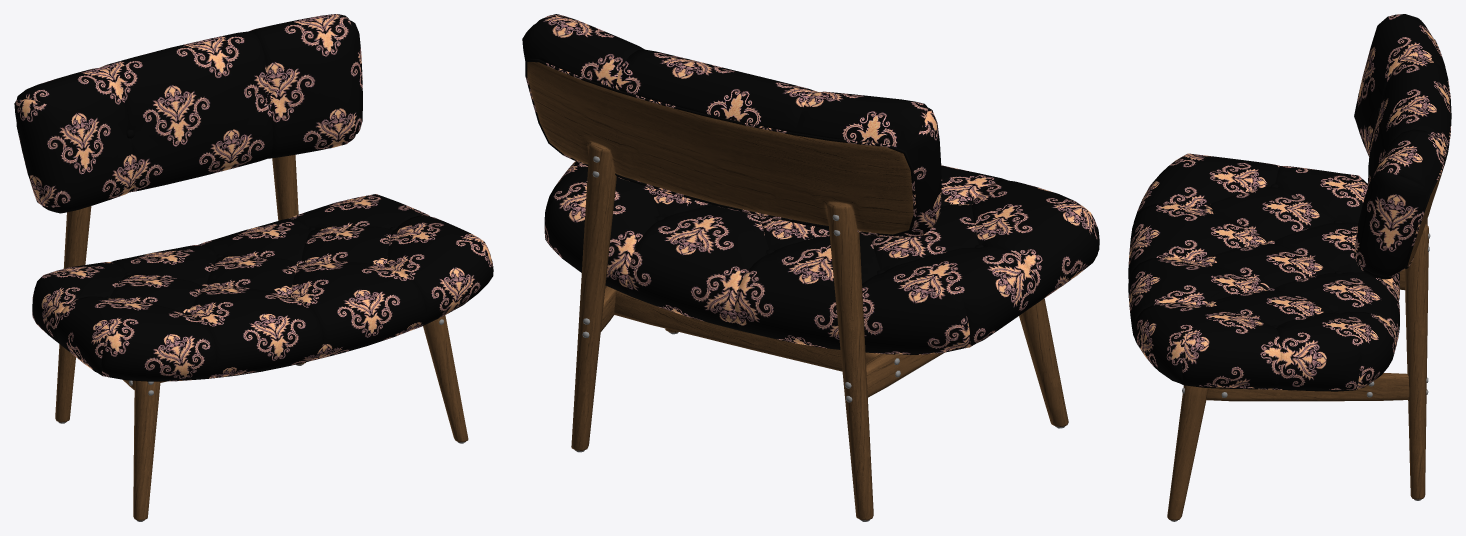
Rendered from khr_ChairDamaskPurplegold.glb.
The picture shows the model from 3 angles, left to right: view 1: azimuth 30°, elevation 25°; view 2: azimuth 150°, elevation 25°; view 3: azimuth 270°, elevation 25°; orthographic projection. The views are drawn at different scales.
Parts seen in each view (by area): view 1: oval-tufted-chair_seat-fabric, oval-tufted-chair_back-fabric, oval-tufted-chair_legs-frame; view 2: oval-tufted-chair_seat-fabric, oval-tufted-chair_back-panel, oval-tufted-chair_legs-frame, oval-tufted-chair_back-fabric, oval-tufted-chair_back-welt; view 3: oval-tufted-chair_seat-fabric, oval-tufted-chair_back-fabric, oval-tufted-chair_legs-frame, oval-tufted-chair_back-welt, oval-tufted-chair_back-panel.
Part boxes in pixels (bbox=[...]): oval-tufted-chair_seat-fabric: bbox=[32, 194, 493, 380]; oval-tufted-chair_back-fabric: bbox=[14, 14, 362, 213]; oval-tufted-chair_legs-frame: bbox=[55, 154, 468, 520]; oval-tufted-chair_seat-fabric: bbox=[544, 161, 1099, 354]; oval-tufted-chair_back-panel: bbox=[527, 62, 913, 234]; oval-tufted-chair_legs-frame: bbox=[571, 142, 1068, 520]; oval-tufted-chair_back-fabric: bbox=[522, 14, 941, 237]; oval-tufted-chair_back-welt: bbox=[525, 58, 916, 236]; oval-tufted-chair_seat-fabric: bbox=[1128, 153, 1399, 390]; oval-tufted-chair_back-fabric: bbox=[1354, 14, 1450, 279]; oval-tufted-chair_legs-frame: bbox=[1167, 219, 1428, 520]; oval-tufted-chair_back-welt: bbox=[1404, 39, 1451, 268]; oval-tufted-chair_back-panel: bbox=[1407, 170, 1442, 266].
Bounding box in the file's own units: 0.8286 × 0.6873 × 0.5718.
4 materials, 3 textured.
